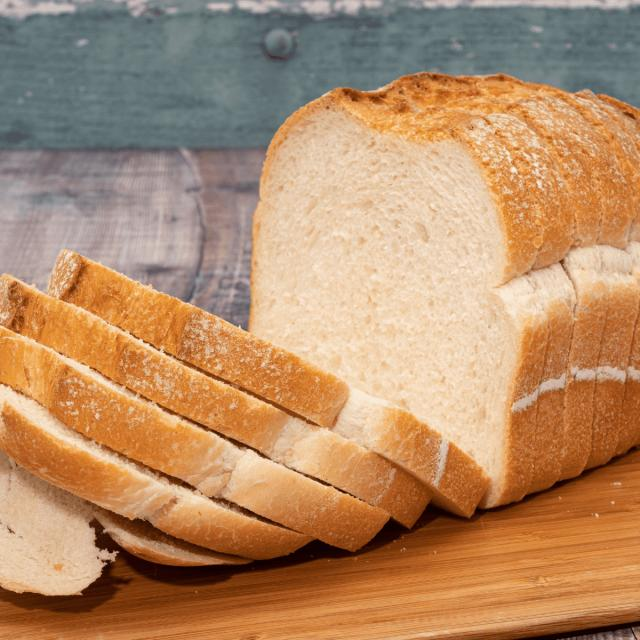Bread: (249, 74, 640, 514), (0, 386, 310, 559), (0, 449, 116, 595)
